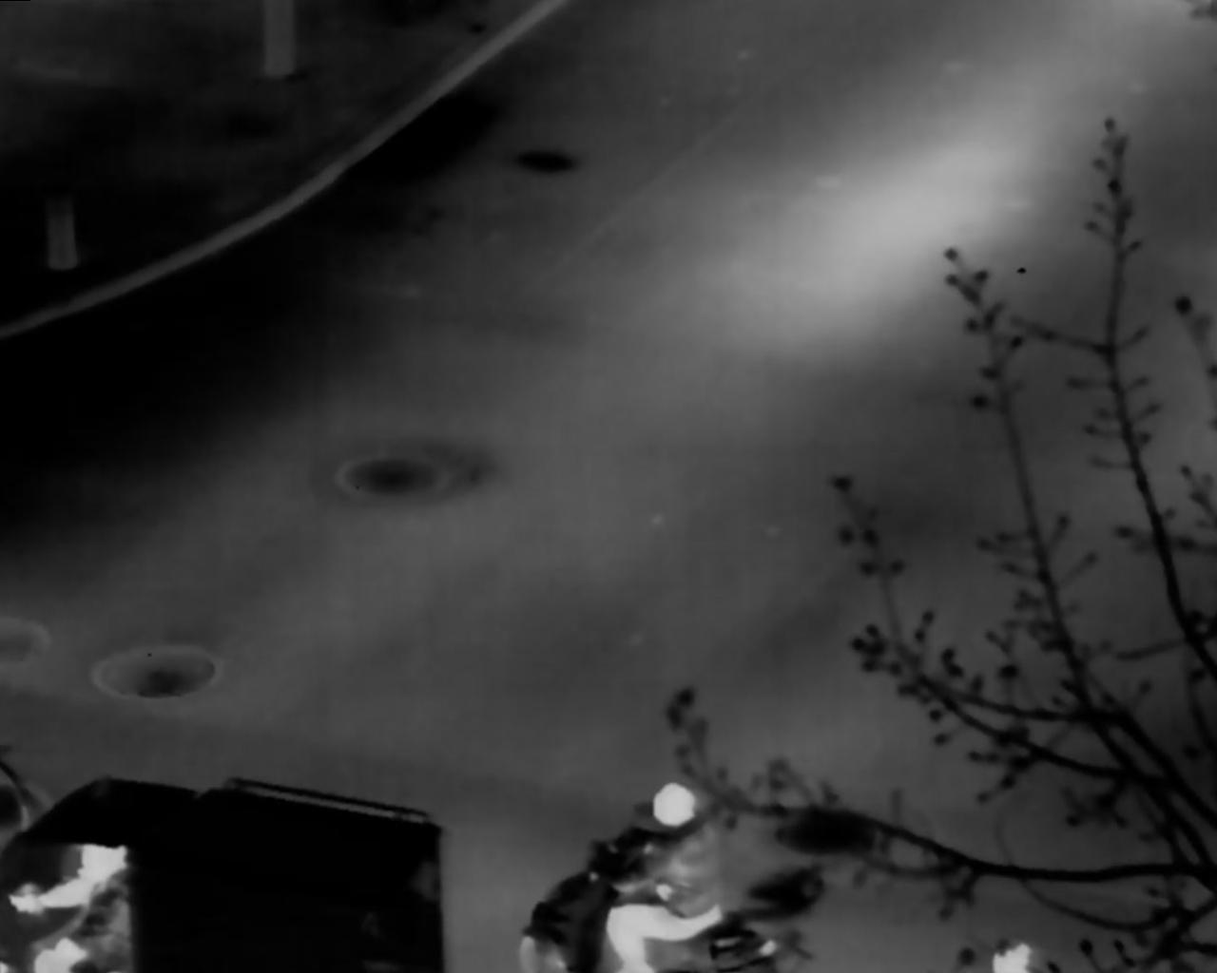person: (603, 782, 724, 973), (15, 846, 132, 973)
